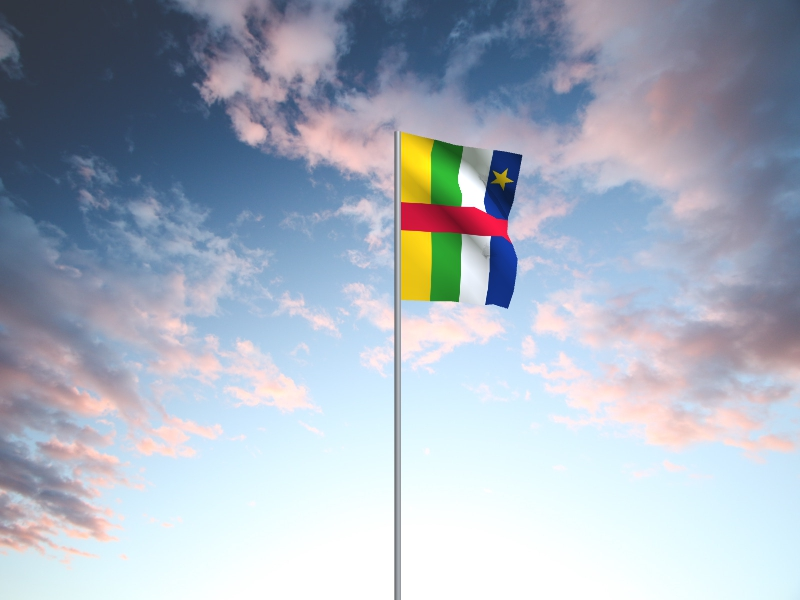cf: (401, 132, 525, 311)
